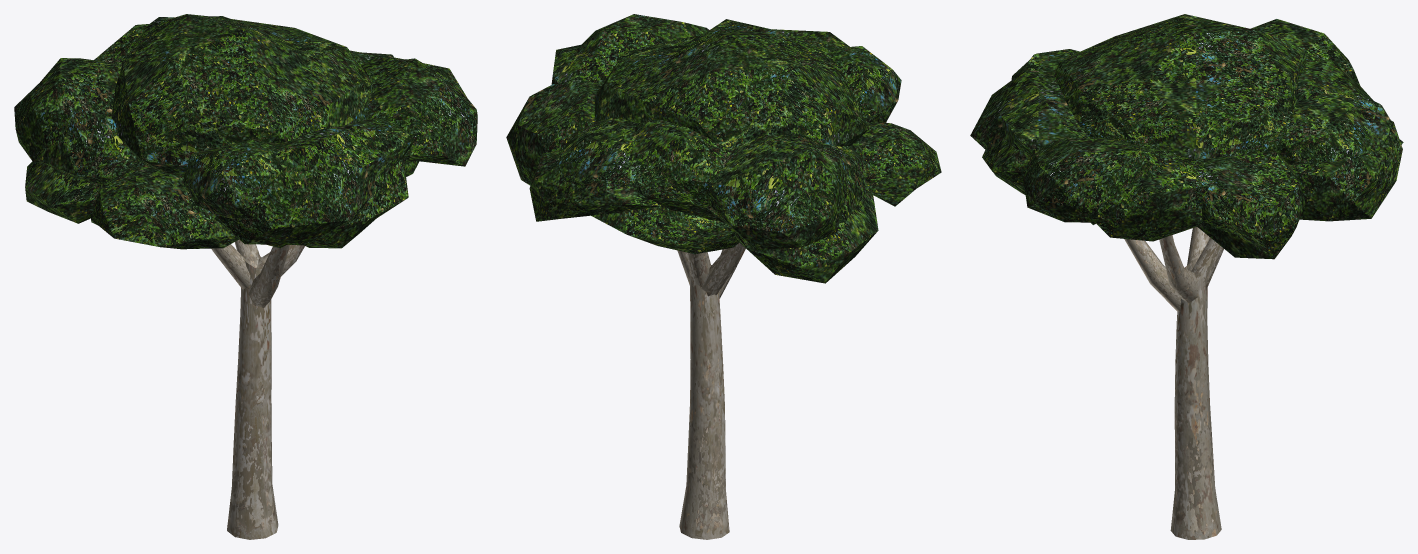
The model's file is Platane_LowPolyC.fbx.
3 views of the same model, side by side, from view 1: azimuth 30°, elevation 25°; view 2: azimuth 150°, elevation 25°; view 3: azimuth 270°, elevation 25° (orthographic). The views are drawn at different scales.
Visible parts, largest first — view 1: Platane_LP_B; view 2: Platane_LP_B; view 3: Platane_LP_B.
Part boxes in pixels (left/top/right/bottom): Platane_LP_B: left=14, top=14, right=477, bottom=539; Platane_LP_B: left=506, top=14, right=941, bottom=539; Platane_LP_B: left=970, top=14, right=1403, bottom=539.
Size of the model in its own units: 5.82 by 6.12 by 7.64.
Materials: 2 (2 with a texture image).
